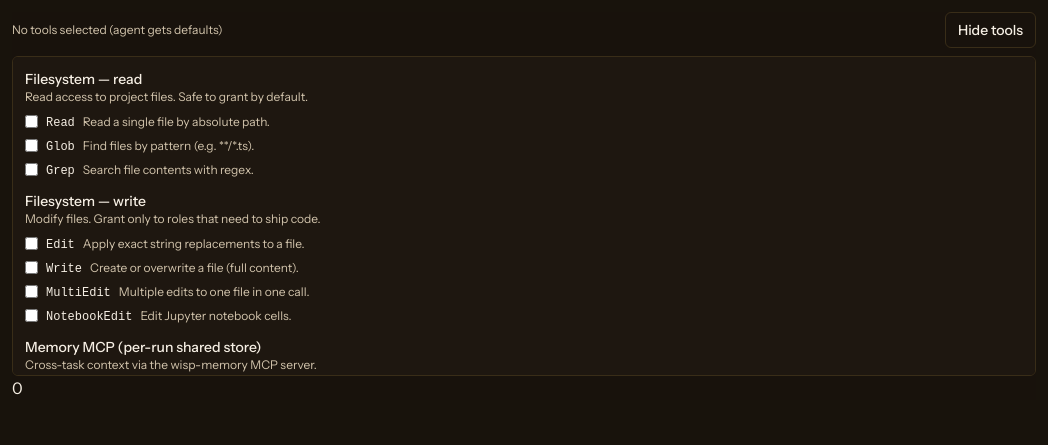
Test case: ToolMultiSelect › toggles a catalog tool via its checkbox
Click the checkbox with test id "tool-cb-Read": (32, 122) [25,115,38,128]
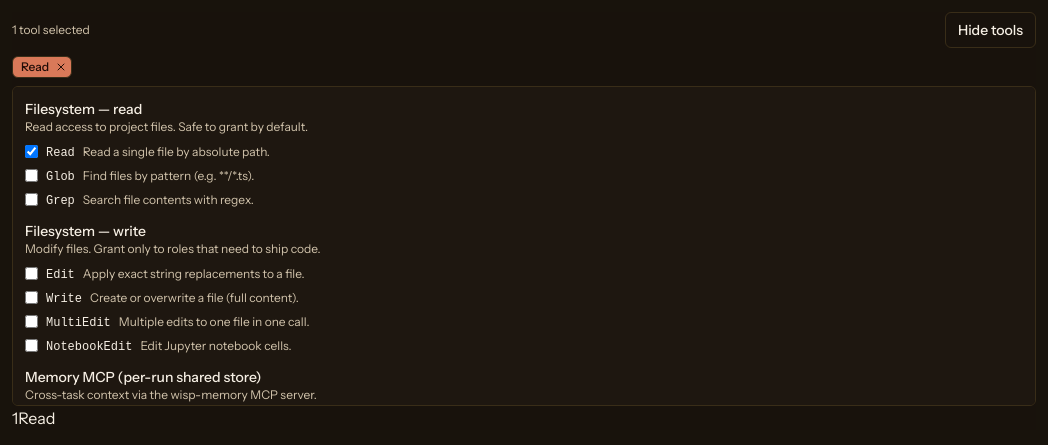
Now the text with test id "harness-count" reads "1", box [12,408,18,428]
Now the text with test id "harness-list" reads "Read", box [18,408,56,428]
Click the checkbox with test id "tool-cb-Read": (32, 152) [25,145,38,158]
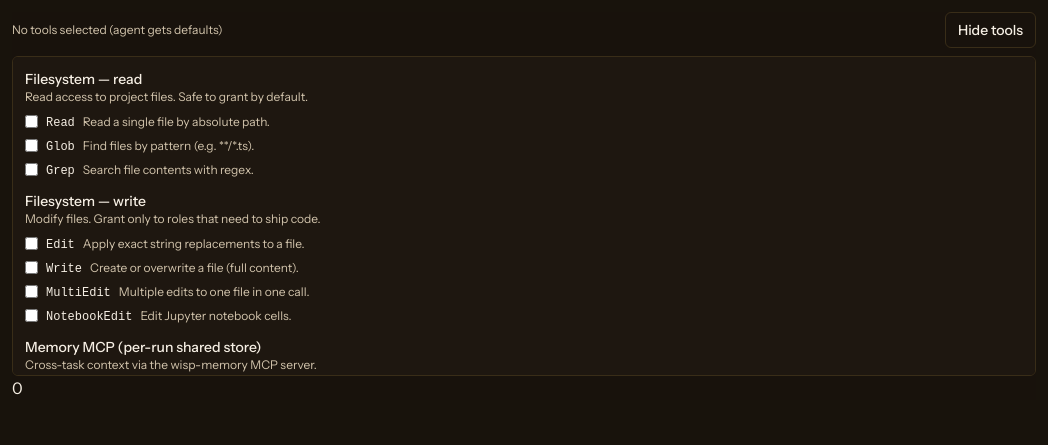
Now the text with test id "harness-count" reads "0", box [12,378,23,398]
